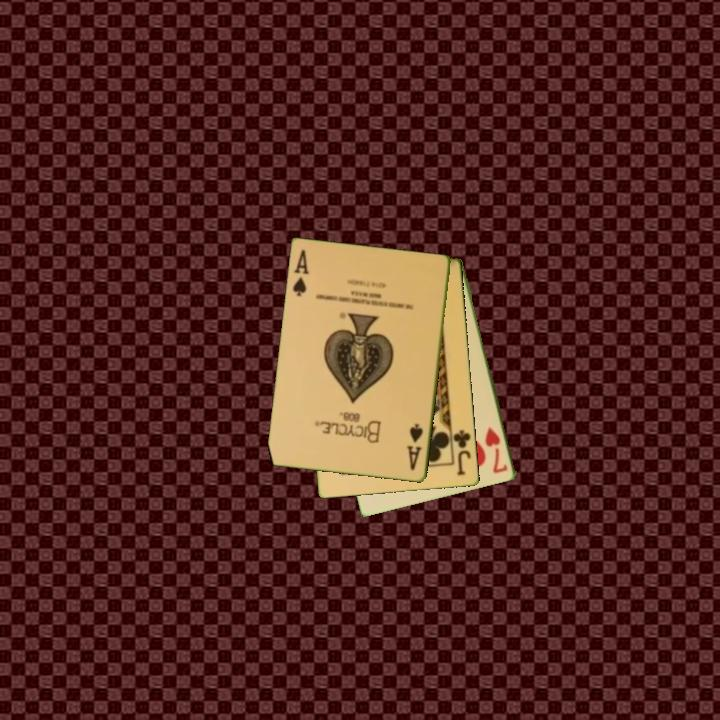7h: (482, 423, 511, 477)
As: (403, 420, 426, 474), (290, 247, 312, 300)
Jc: (450, 427, 474, 478)
